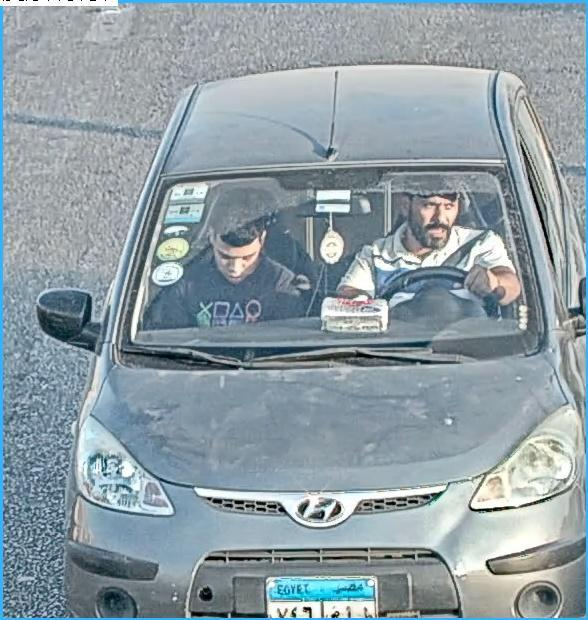windshield: (102, 150, 557, 360)
